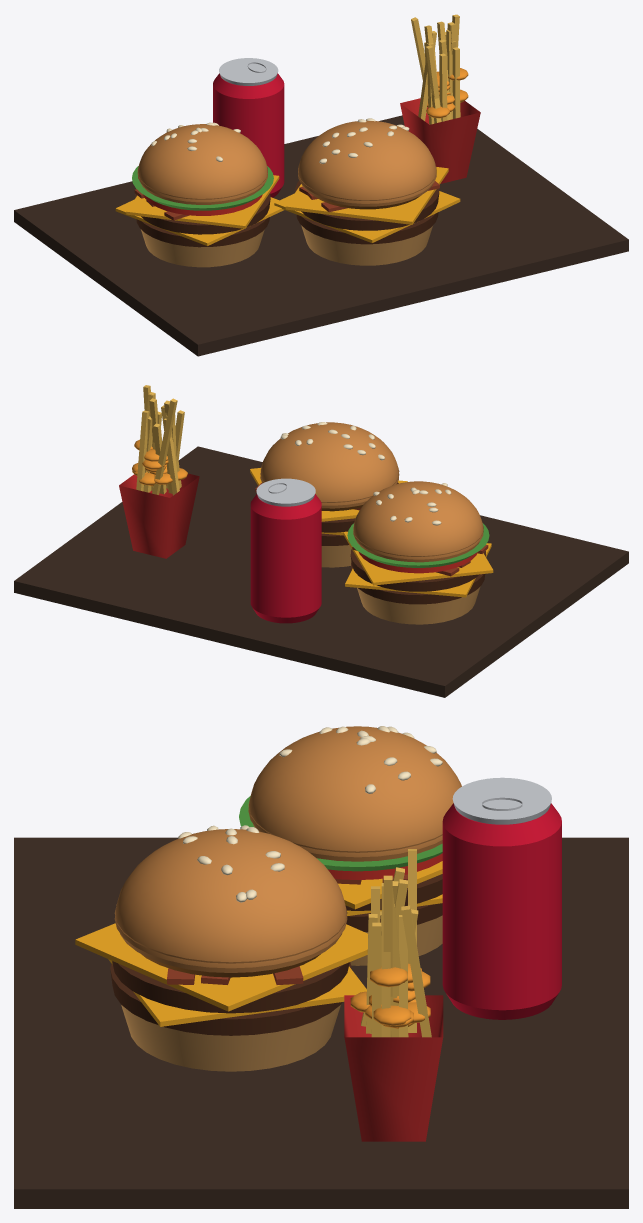
The model's file is combo.glb.
The picture shows the model from 3 angles, top to bottom: view 1: azimuth 30°, elevation 25°; view 2: azimuth 150°, elevation 25°; view 3: azimuth 270°, elevation 25°; orthographic projection. The views are drawn at different scales.
Size of the model in its own units: 0.46 by 0.172 by 0.34.
